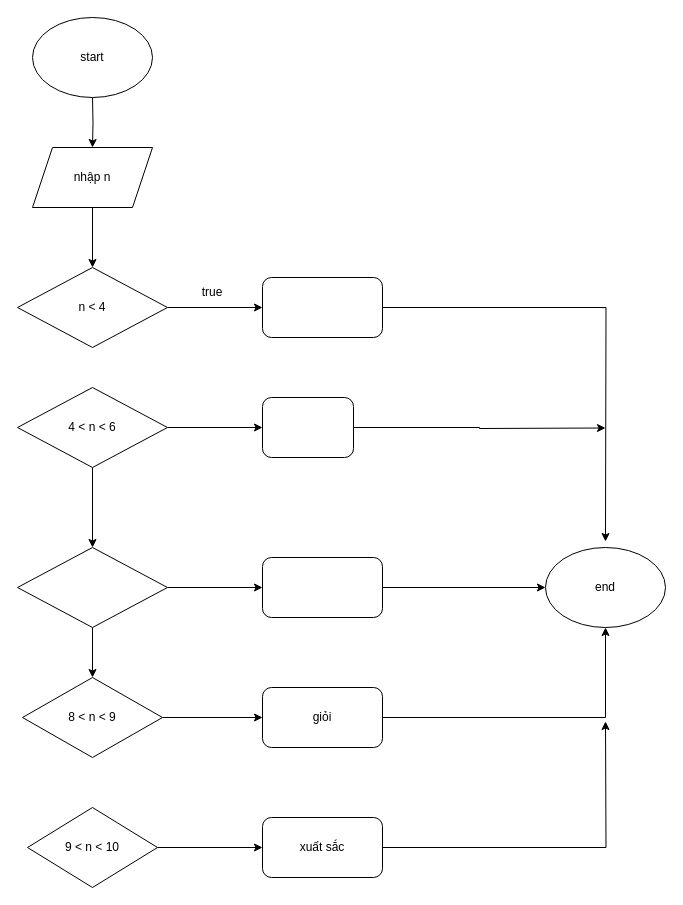
Image size: 683x905. Some labels were removed from this diagram. The shapes that lost their labels are listed below. From the top down, each one's box as (x1, y1, x2, y2) in pixels, then its label:
(262, 276, 382, 338): không đạt
(262, 396, 354, 458): trung bình
(16, 546, 168, 628): 6 < n <8
(262, 556, 382, 618): khá
